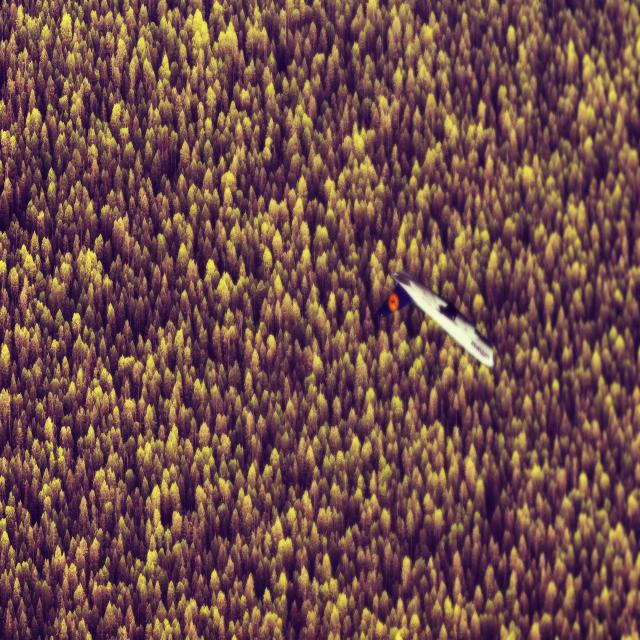airplane: (376, 269, 494, 369)
